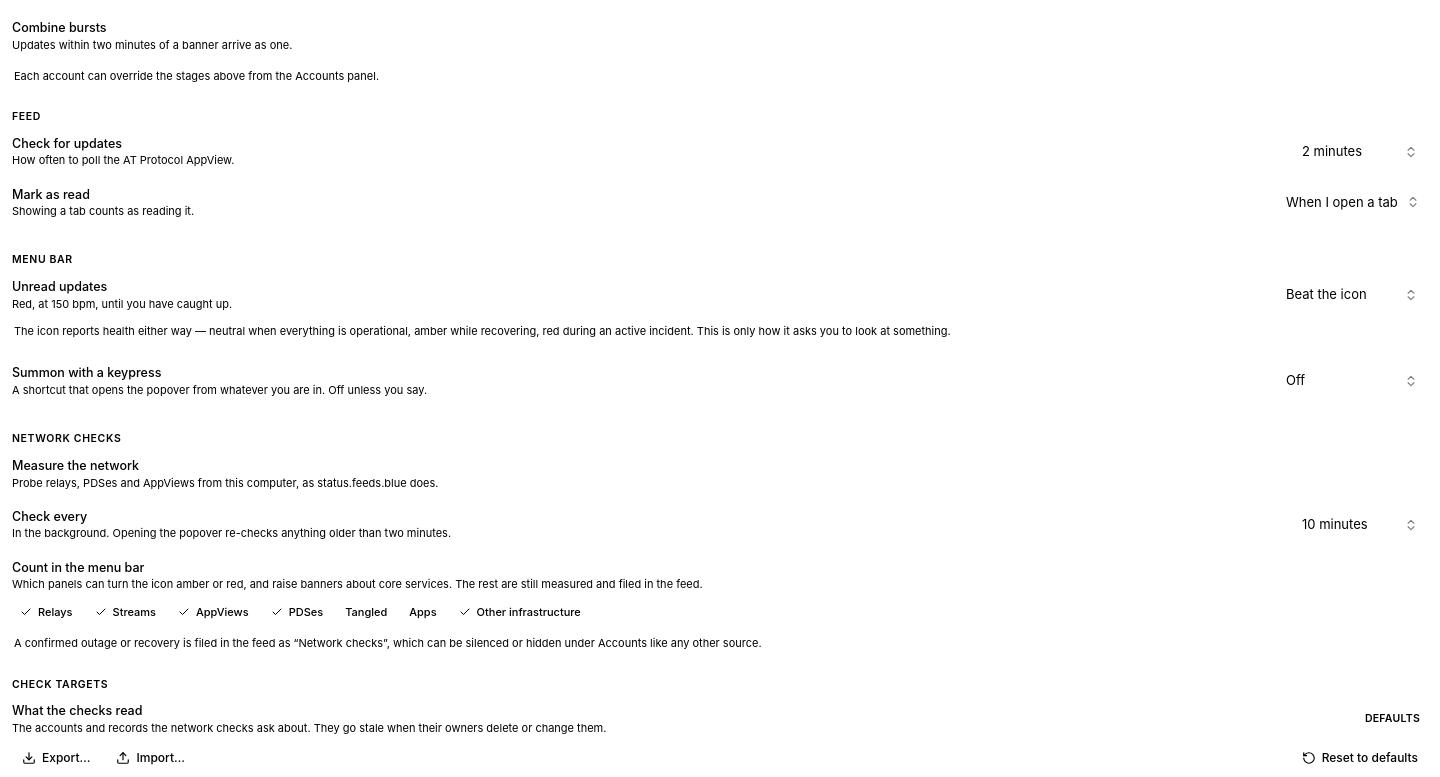
Scenario: the summoning shortcut › writes the combinations the way macOS writes them
(page scrolled)
Press the mouse on the button with aria-label "Keyboard shortcut to open Statusky" at (1352, 381), box [1276, 365, 1428, 397]
(page scrolled)
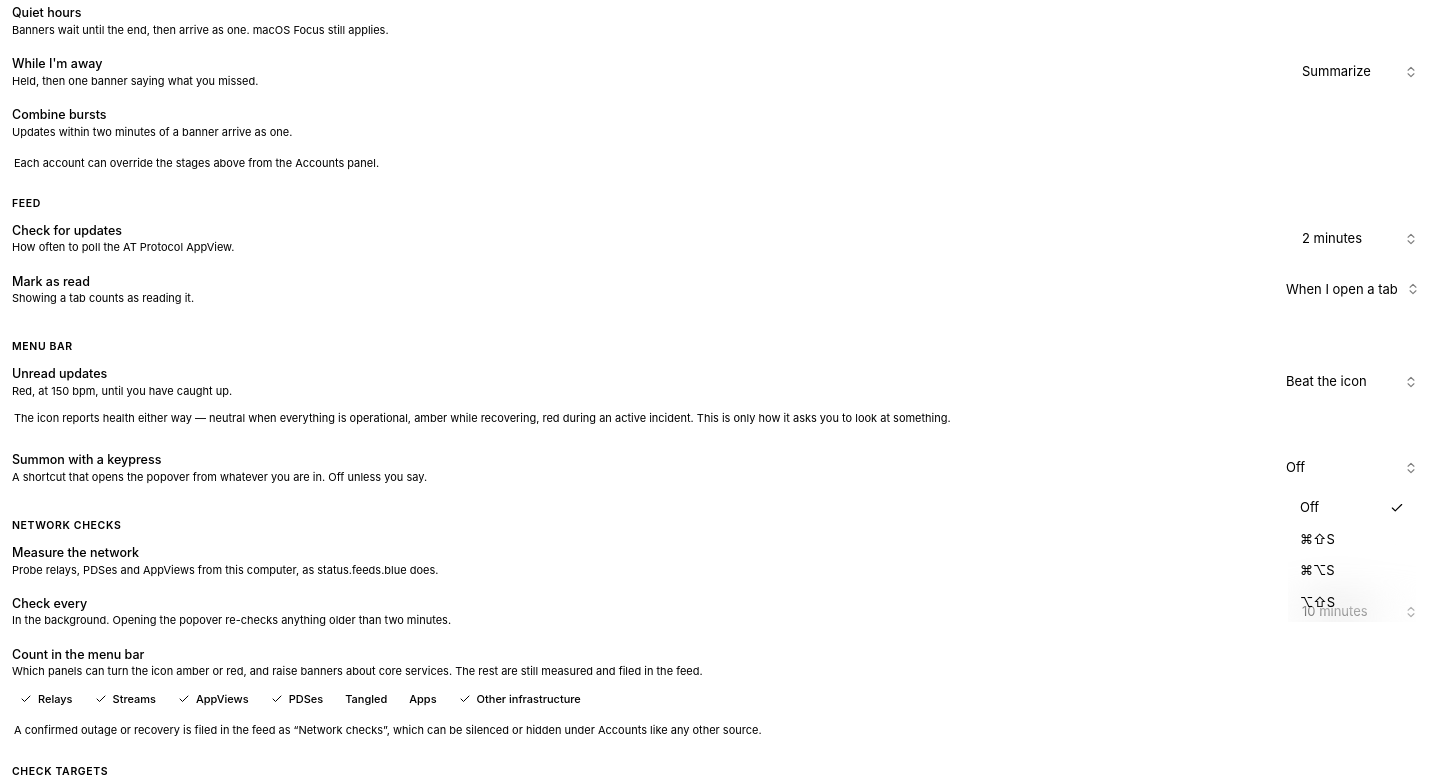
expect the list shows "⌘⇧S": met, box [1300, 530, 1335, 546]
expect the list shows "⌥⇧S": met, box [1300, 594, 1335, 610]
